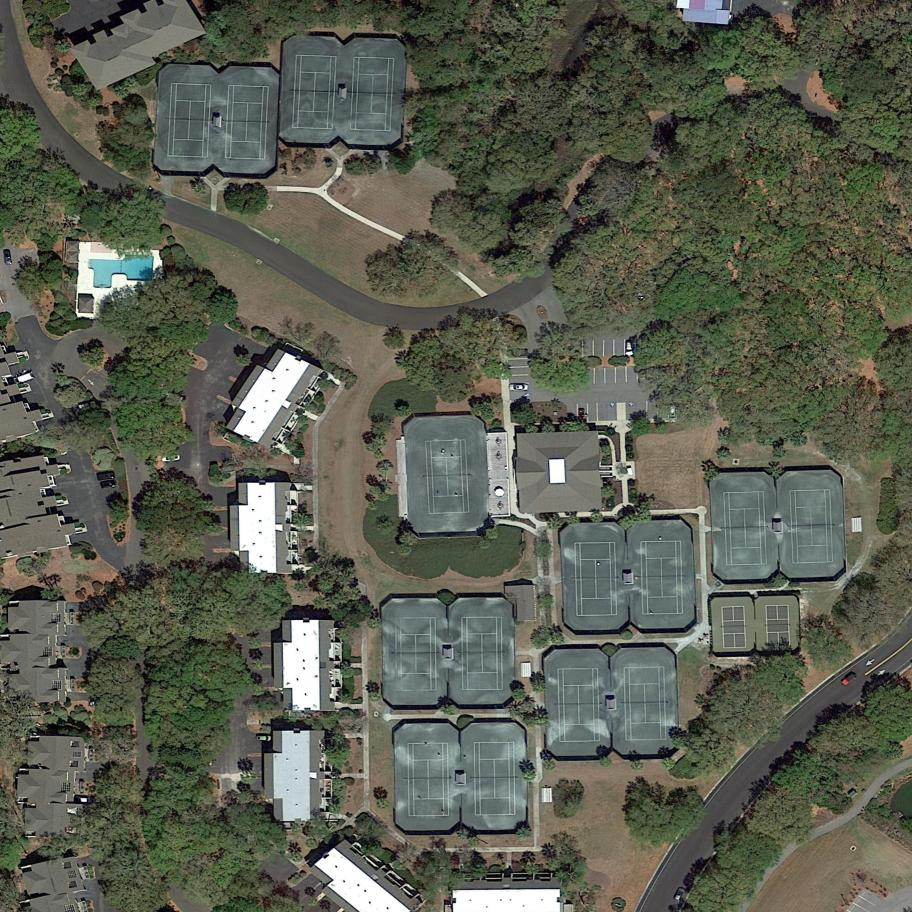small-vehicle: (841, 672, 858, 688), (673, 886, 687, 904), (96, 471, 116, 482), (161, 453, 181, 463), (100, 479, 118, 490), (625, 340, 635, 357), (509, 384, 528, 392), (3, 251, 13, 266), (255, 735, 272, 742)
